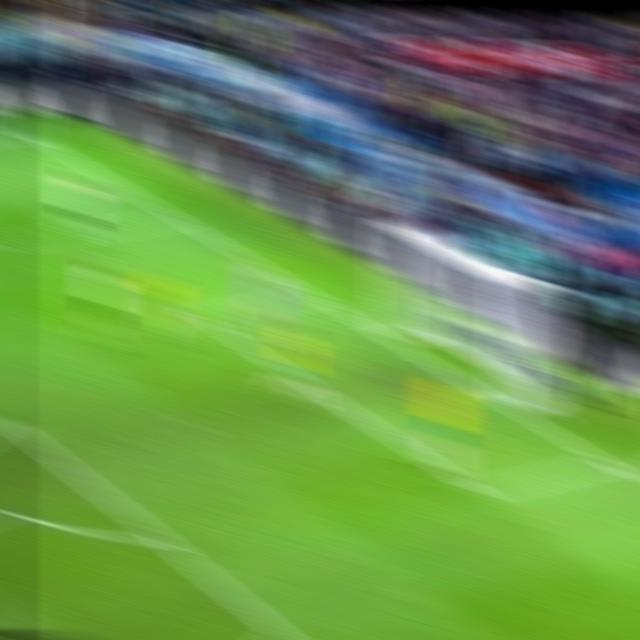bigarea_top_outter: (161, 210, 190, 226)
bottom_arc_area_intersection: (141, 524, 177, 555)
corner: (12, 125, 47, 143)
smallarea_bottom_inner: (461, 478, 498, 507)
smallarea_bottom_outter: (589, 451, 621, 475)
smallarea_top_inner: (181, 306, 219, 328)
smallarea_top_outter: (297, 284, 326, 305)
